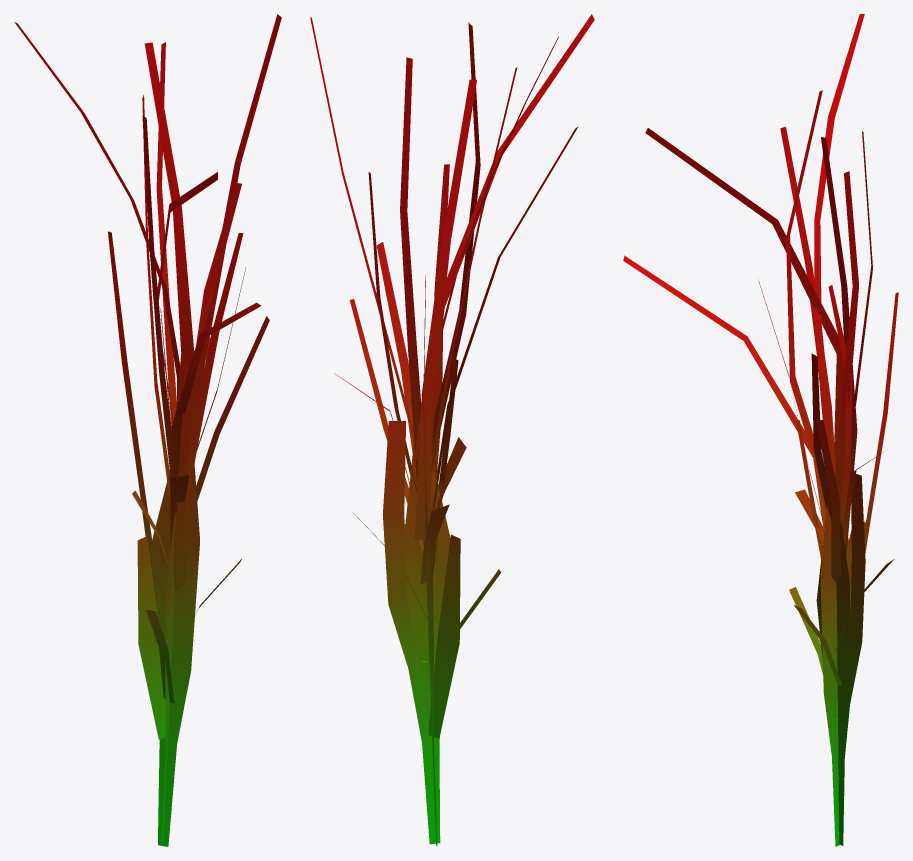
Rendered from Sea Wheatgrass_LOD2_Var13_ui2oagjia.fbx.
3 views of the same model, side by side, from view 1: azimuth 30°, elevation 25°; view 2: azimuth 150°, elevation 25°; view 3: azimuth 270°, elevation 25° (orthographic). The views are drawn at different scales.
Parts seen in each view (by area): view 1: _uaeb_Var13_LOD2; view 2: _uaeb_Var13_LOD2; view 3: _uaeb_Var13_LOD2.
Boxes of the visible parts, box(x1,y1,x2,y2) form: _uaeb_Var13_LOD2: box(14, 14, 281, 846); _uaeb_Var13_LOD2: box(310, 14, 594, 846); _uaeb_Var13_LOD2: box(623, 14, 898, 846).
Size of the model in its own units: 10.71 by 33.83 by 10.94.
